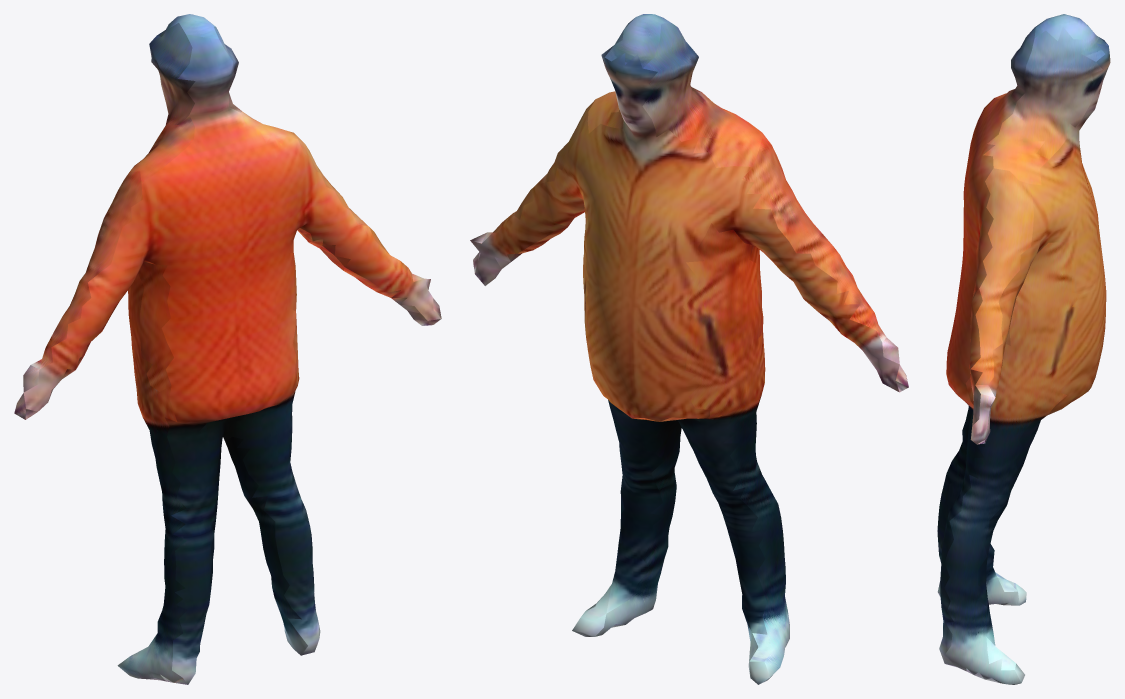
The picture shows the model from 3 angles, left to right: view 1: azimuth 30°, elevation 25°; view 2: azimuth 150°, elevation 25°; view 3: azimuth 270°, elevation 25°; orthographic projection. The views are drawn at different scales.
Visible parts, largest first — view 1: world; view 2: world; view 3: world.
Boxes of the visible parts, bbox=[...] form: world: bbox=[14, 14, 441, 684]; world: bbox=[470, 14, 908, 684]; world: bbox=[937, 14, 1110, 684].
Size of the model in its own units: 0.7101 by 1.01 by 0.2522.
1 material, 1 textured.
